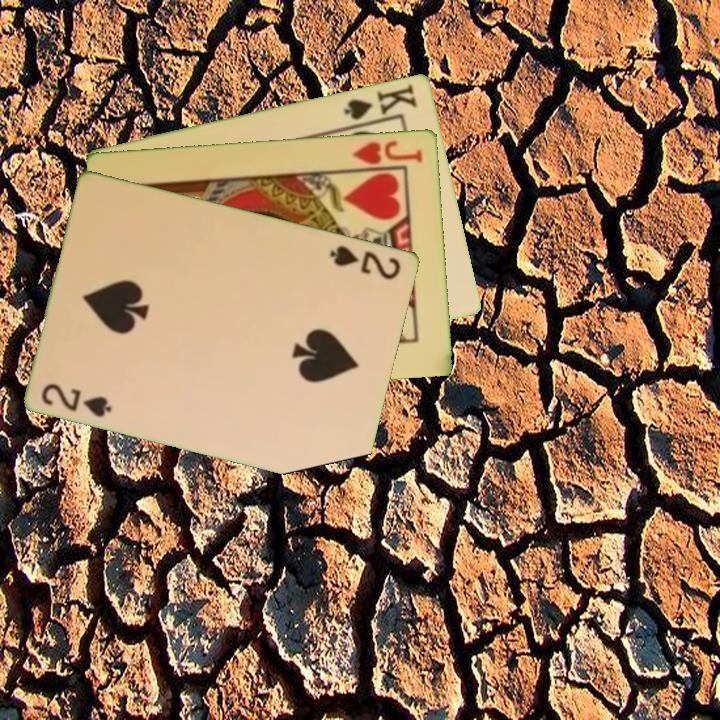2s: (326, 241, 404, 282), (38, 379, 115, 420)
Jh: (344, 137, 426, 172)
Ks: (341, 80, 420, 128)
